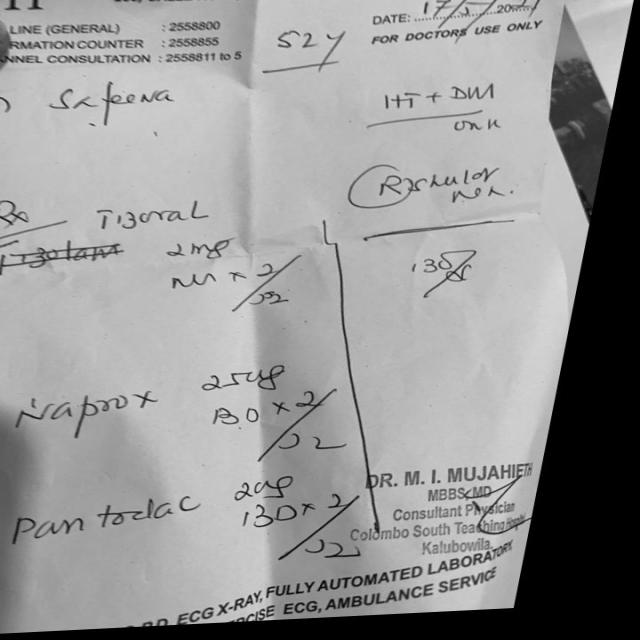Prescription: (23, 357, 386, 471), (12, 475, 401, 581), (88, 195, 326, 319)
